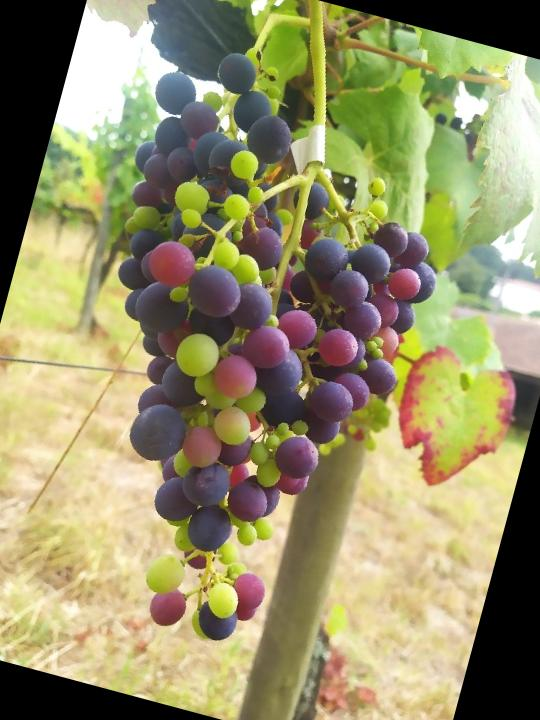grape: (13, 21, 488, 680)
